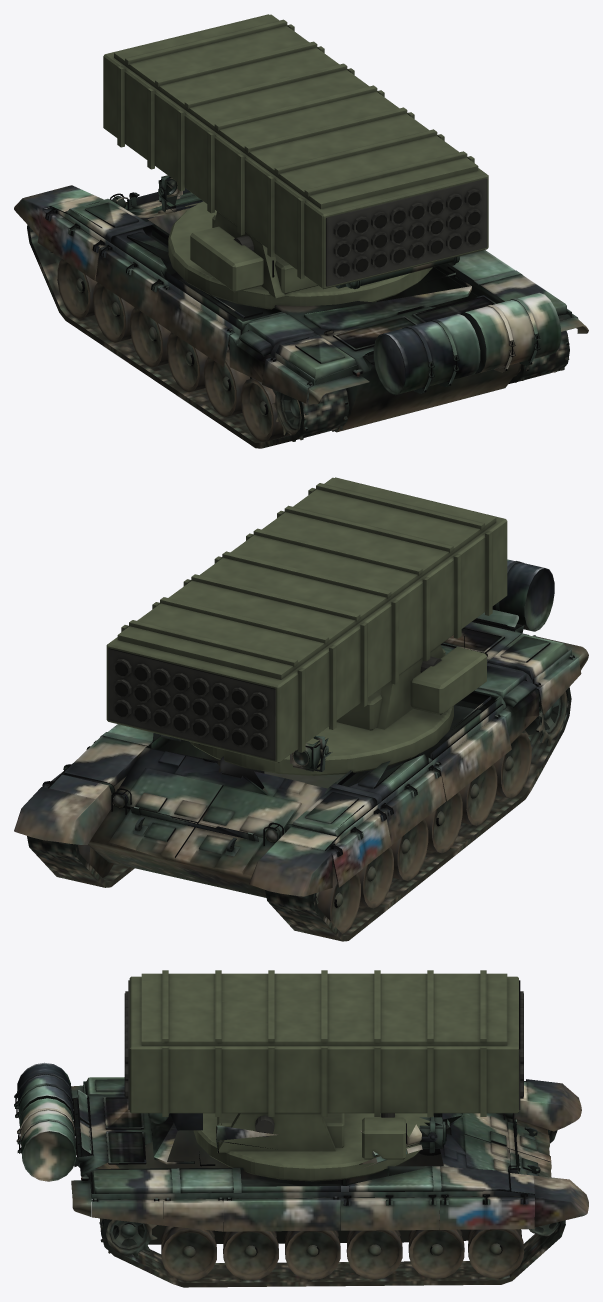
The model's file is tos.glb.
3 renders of one model, top to bottom at view 1: azimuth 30°, elevation 25°; view 2: azimuth 150°, elevation 25°; view 3: azimuth 270°, elevation 25°, orthographic. The views are drawn at different scales.
Visible parts, largest first — view 1: turret, hull; view 2: turret, hull; view 3: hull, turret.
Part boxes in pixels (x1,y1,x2,y2): turret: (103,14,488,309); hull: (14,175,588,448); turret: (106,477,507,775); hull: (14,559,588,941); hull: (14,1062,588,1287); turret: (124,970,523,1181).
Size of the model in its own units: 3.83 by 3.08 by 7.23.
Materials: 1 (1 with a texture image).
